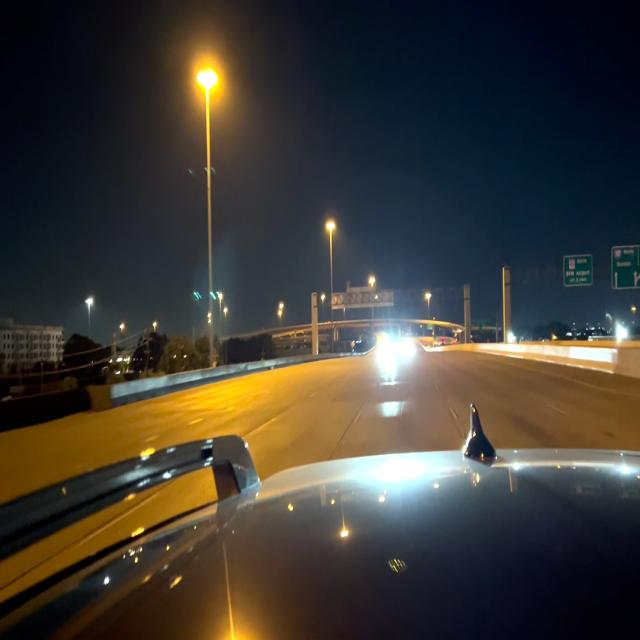back-of-sign: (330, 292, 394, 307)
